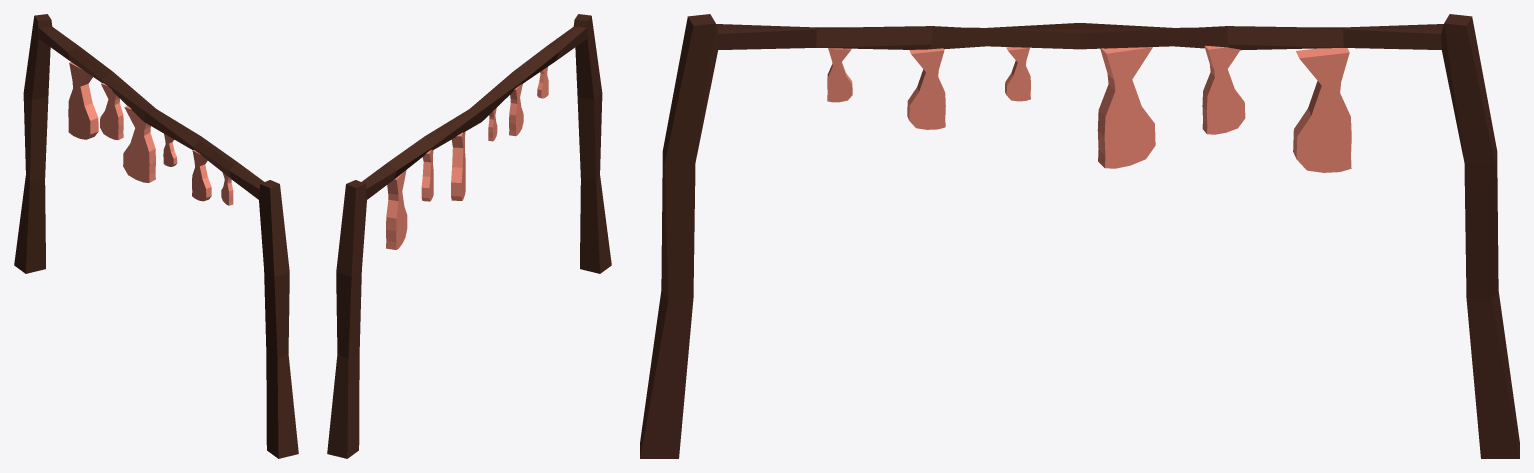
The model's file is FishingRack.fbx.
The picture shows the model from 3 angles, left to right: view 1: azimuth 30°, elevation 25°; view 2: azimuth 150°, elevation 25°; view 3: azimuth 270°, elevation 25°; orthographic projection. The views are drawn at different scales.
Parts seen in each view (by area): view 1: Plane.001; view 2: Plane.001; view 3: Plane.001.
Boxes of the visible parts, x1=… form: Plane.001: x1=14, y1=14, x2=298, y2=458; Plane.001: x1=327, y1=14, x2=611, y2=458; Plane.001: x1=640, y1=14, x2=1519, y2=458.
Bounding box in the file's own units: 8.71 × 94.29 × 175.
